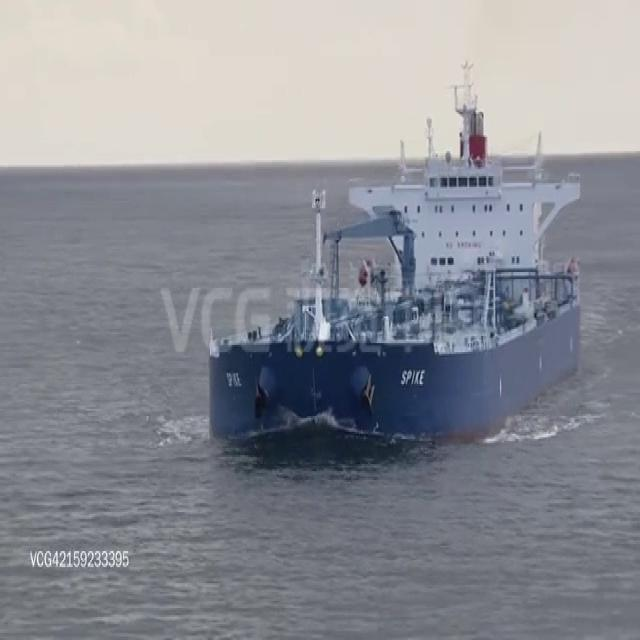cargoship: (192, 95, 580, 442)
